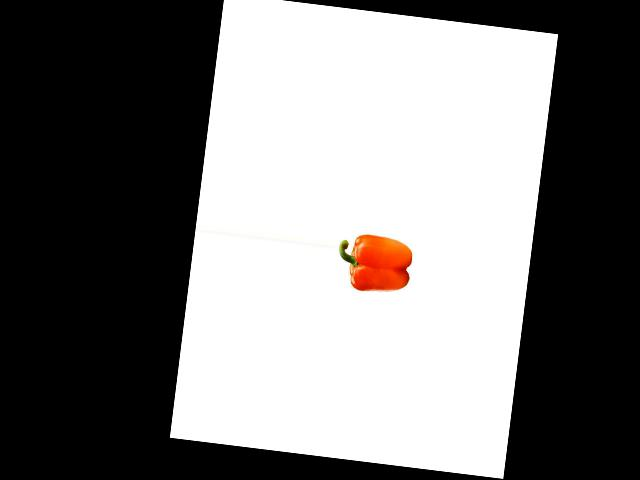bell_pepper: (333, 225, 415, 301)
